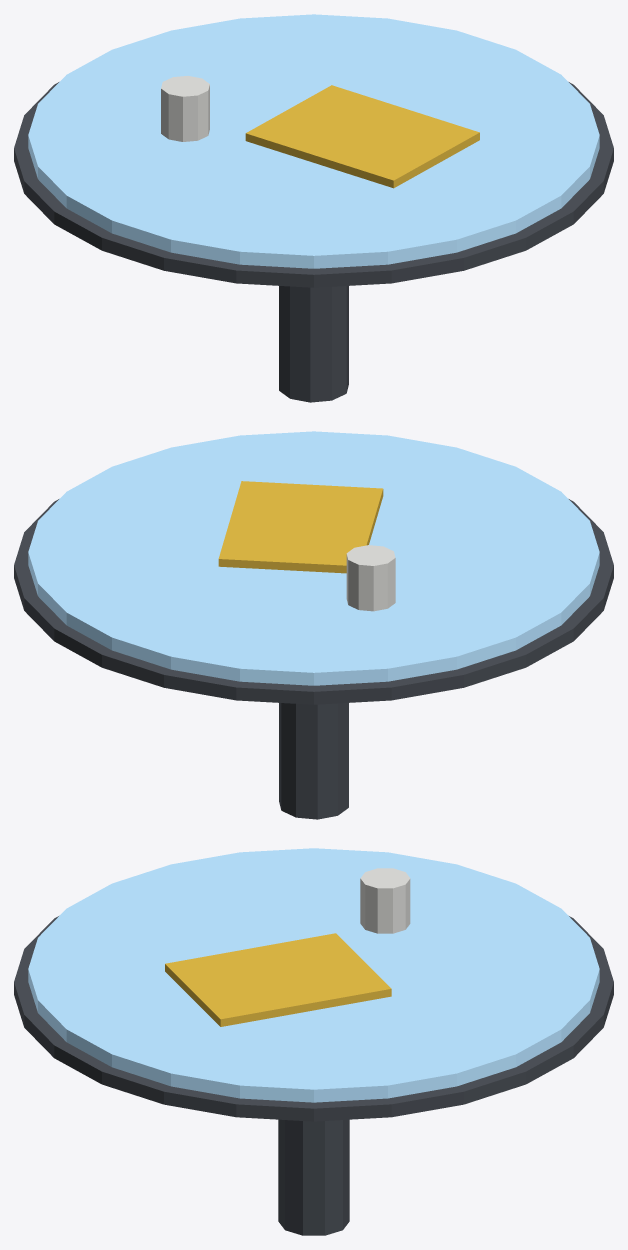
The model's file is coffee_table.glb.
The picture shows the model from 3 angles, top to bottom: view 1: azimuth 30°, elevation 25°; view 2: azimuth 150°, elevation 25°; view 3: azimuth 270°, elevation 25°; orthographic projection.
Parts seen in each view (by area): view 1: coffee_table_mesh; view 2: coffee_table_mesh; view 3: coffee_table_mesh.
Part boxes in pixels (box(x1,y1,x2,y2)): coffee_table_mesh: box(14, 14, 613, 402); coffee_table_mesh: box(14, 431, 613, 819); coffee_table_mesh: box(14, 848, 613, 1235).
Size of the model in its own units: 0.84 by 0.46 by 0.84.
